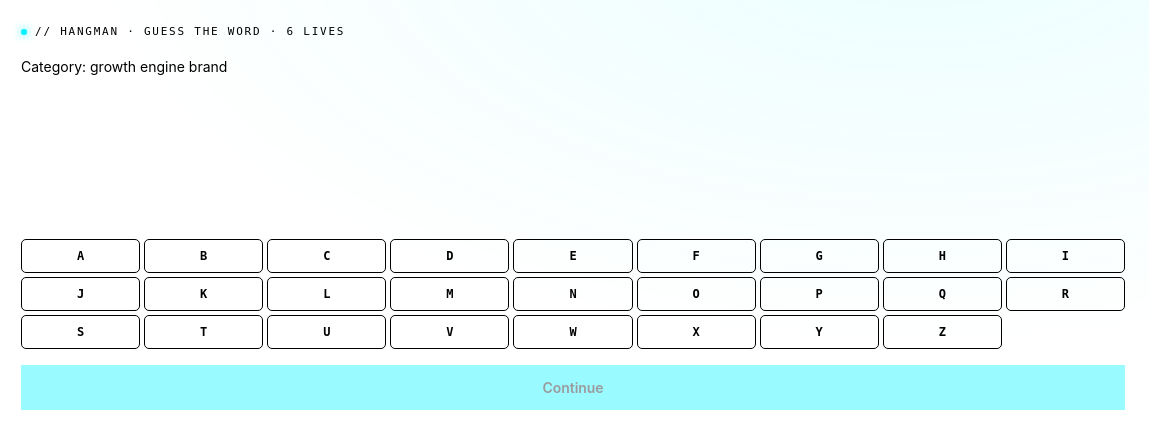
Test: HangmanExperience › wrong guess disables the letter button
Click the button "Z" at [942, 332], box x1=883 y1=314 x2=1002 y2=348
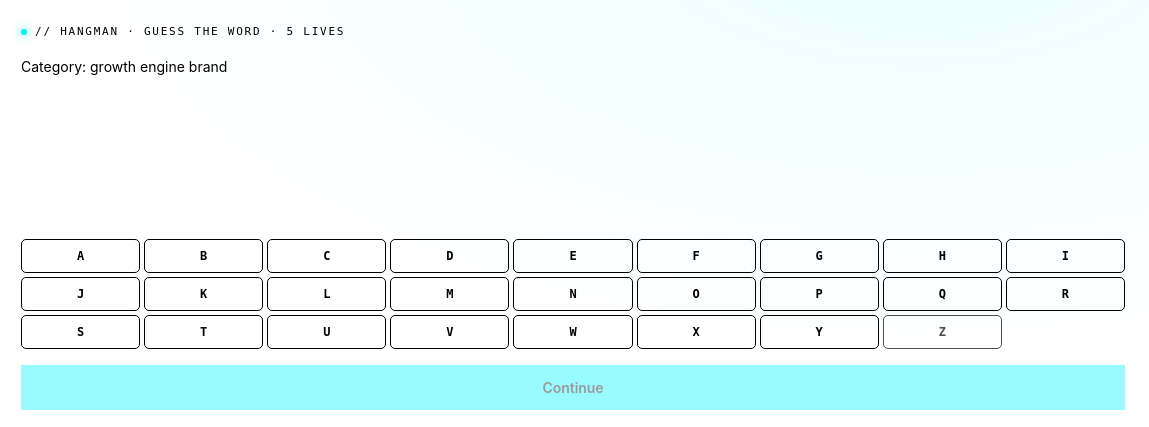
Result: the button "Z" is disabled at x1=883 y1=314 x2=1002 y2=348
